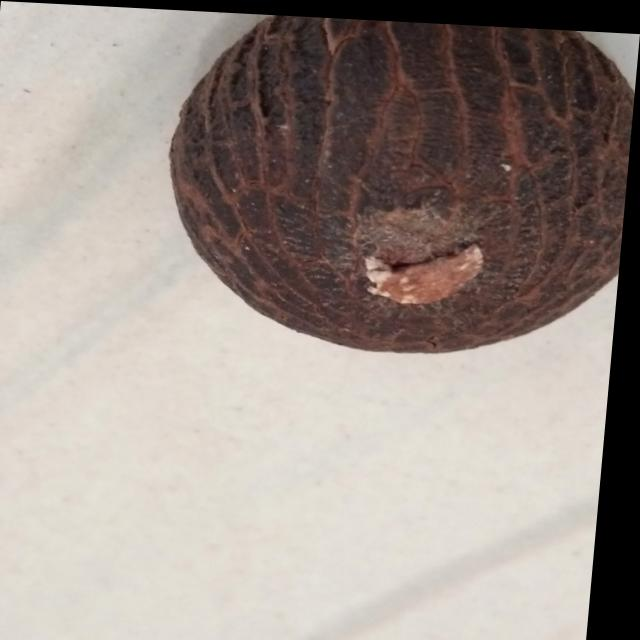karigot: (108, 5, 640, 369)
